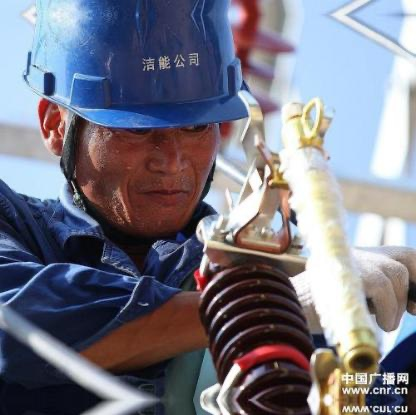Safety Helmet: (11, 1, 261, 243)
